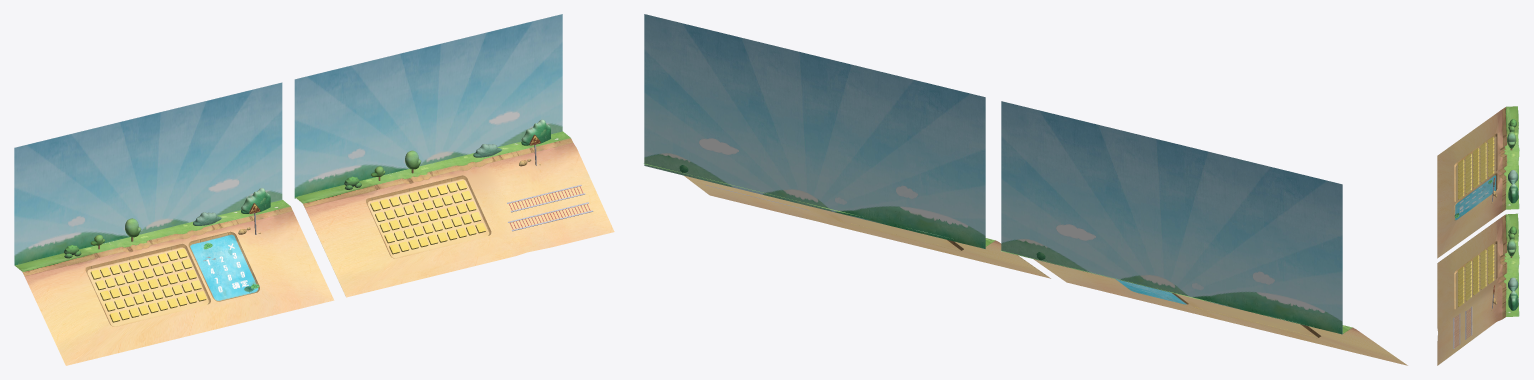
3 renders of one model, left to right at view 1: azimuth 30°, elevation 25°; view 2: azimuth 150°, elevation 25°; view 3: azimuth 270°, elevation 25°, orthographic. The views are drawn at different scales.
Parts seen in each view (by area): view 1: 对象293, 对象280, Cylinder002, Cylinder001, 对象065, 对象229; view 2: 对象293, 对象280, Cylinder001, Cylinder002; view 3: Cylinder001, Cylinder002, 对象065, 对象229, 对象285, 对象297, 对象283, 对象295, 对象296, 对象284.
Boxes of the visible parts, box(x1,y1,x2,y2) form: 对象293: box(294, 14, 562, 198); 对象280: box(14, 82, 282, 265); Cylinder002: box(295, 131, 614, 297); Cylinder001: box(15, 200, 334, 365); 对象065: box(508, 202, 593, 231); 对象229: box(507, 185, 585, 212); 对象293: box(644, 14, 985, 248); 对象280: box(1001, 101, 1342, 334); Cylinder001: box(1001, 250, 1407, 365); Cylinder002: box(643, 163, 1050, 278); Cylinder001: box(1437, 106, 1519, 258); Cylinder002: box(1437, 213, 1519, 365); 对象065: box(1453, 313, 1460, 348); 对象229: box(1465, 306, 1472, 339); 对象285: box(1508, 183, 1518, 203); 对象297: box(1508, 291, 1518, 310); 对象283: box(1507, 131, 1516, 150); 对象295: box(1507, 239, 1516, 257); 对象296: box(1508, 277, 1518, 291); 对象284: box(1508, 170, 1518, 183).
Bounding box in the file's own units: 791 × 249 × 131.
1 material, 1 textured.
